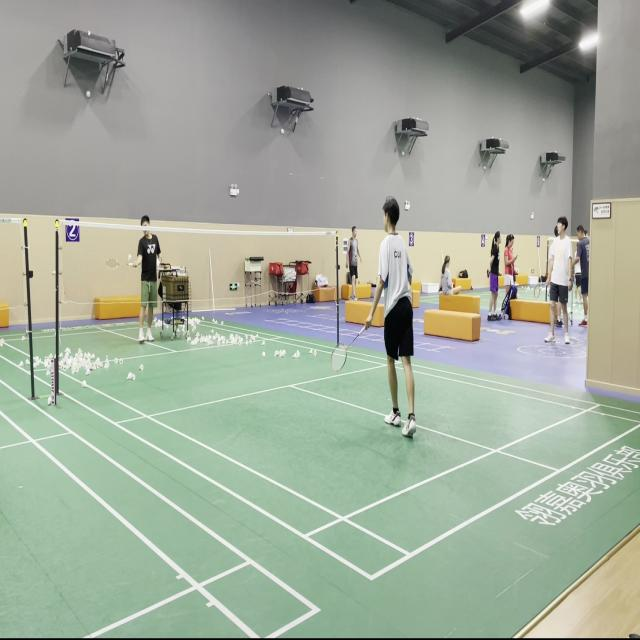shuttlecock: (128, 253, 131, 260)
